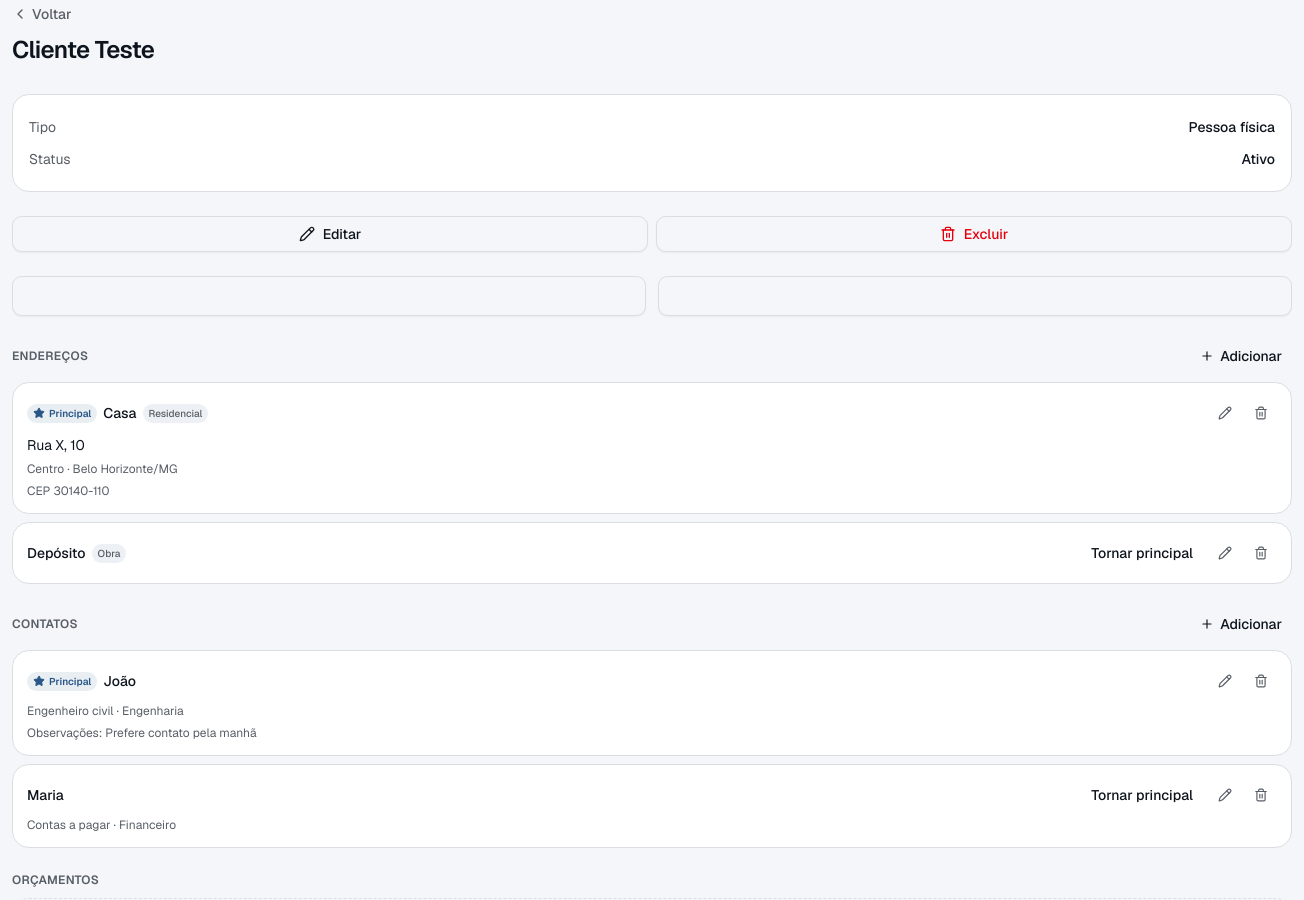
Test: CustomerDetail › shows an error message when 'Tornar principal' fails for an address
The image size is (1304, 900).
Expected: the text "Depósito" is shown, [27, 543, 86, 563]
Click the button "Tornar principal" in the row of "Depósito": click(1142, 553) [1079, 537, 1205, 569]
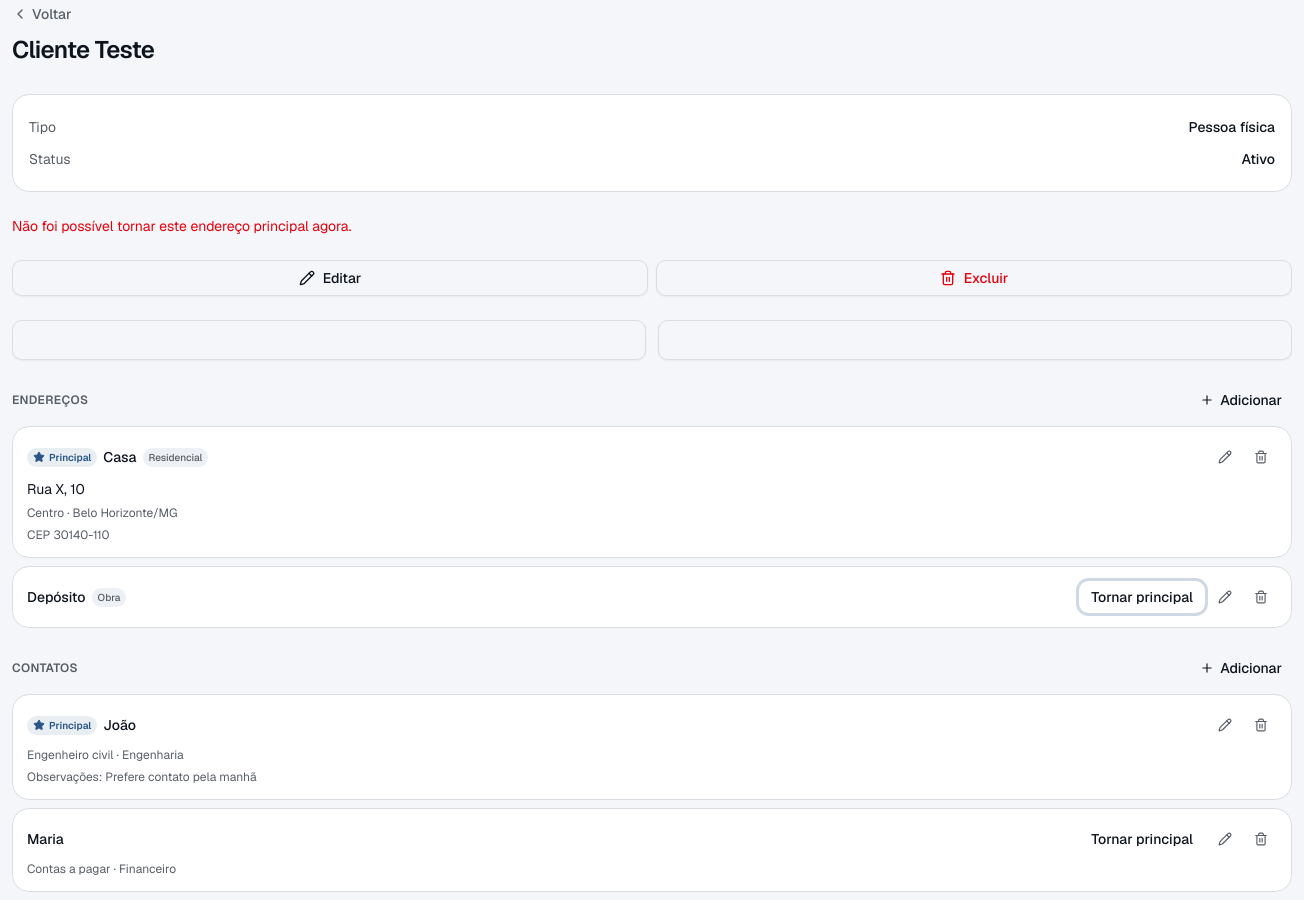
Result: the text "Não foi possível tornar este endereço principal agora." is shown at [12, 217, 352, 235]
